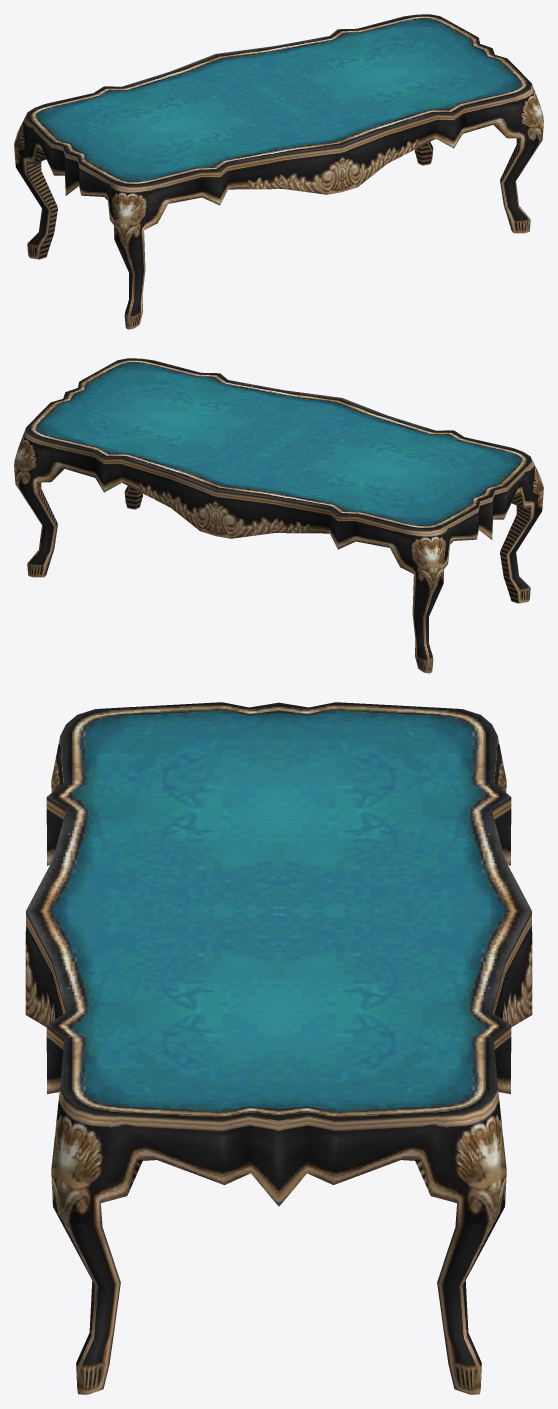
File: furni_0200307_02.FBX
The picture shows the model from 3 angles, top to bottom: view 1: azimuth 30°, elevation 25°; view 2: azimuth 150°, elevation 25°; view 3: azimuth 270°, elevation 25°; orthographic projection. The views are drawn at different scales.
Visible parts, largest first — view 1: furni_0200307_02; view 2: furni_0200307_02; view 3: furni_0200307_02.
Part boxes in pixels (x1=…): furni_0200307_02: x1=14, y1=14, x2=543, y2=329; furni_0200307_02: x1=14, y1=358, x2=543, y2=673; furni_0200307_02: x1=25, y1=702, x2=532, y2=1394.
Bounding box in the file's own units: 156 × 49.8 × 79.51.
Materials: 1 (1 with a texture image).
